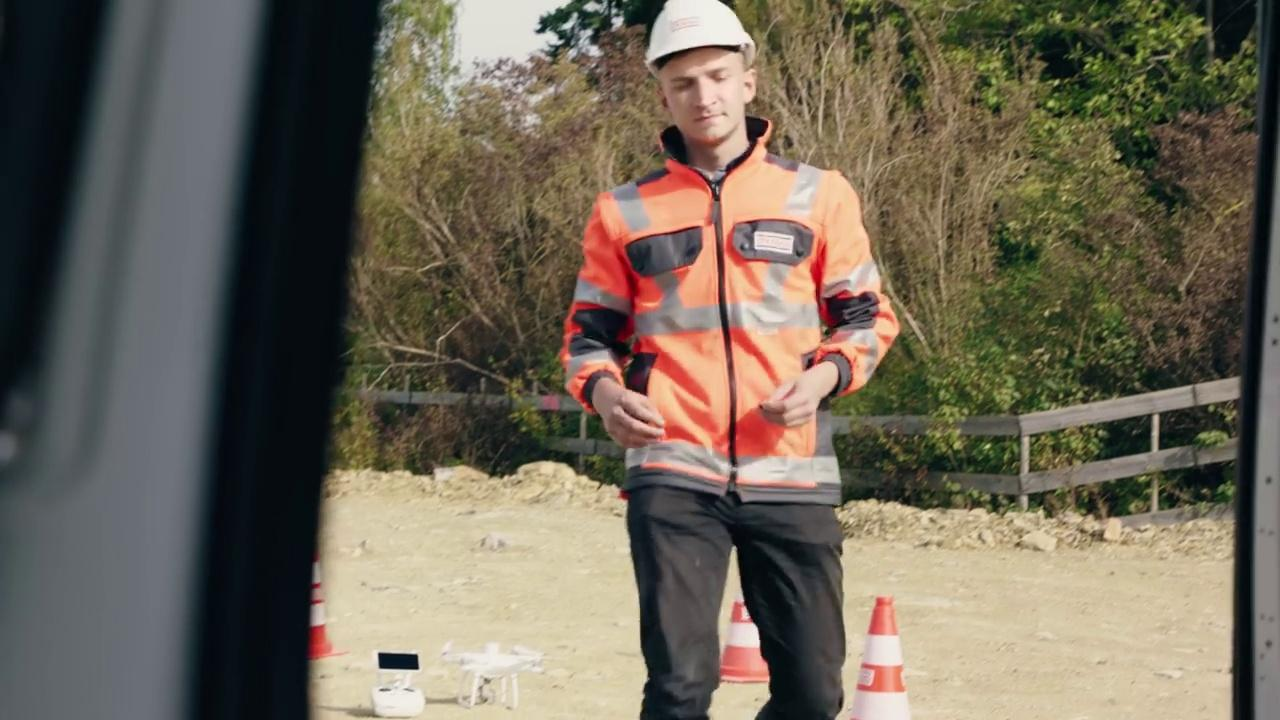drone: (434, 637, 550, 717)
